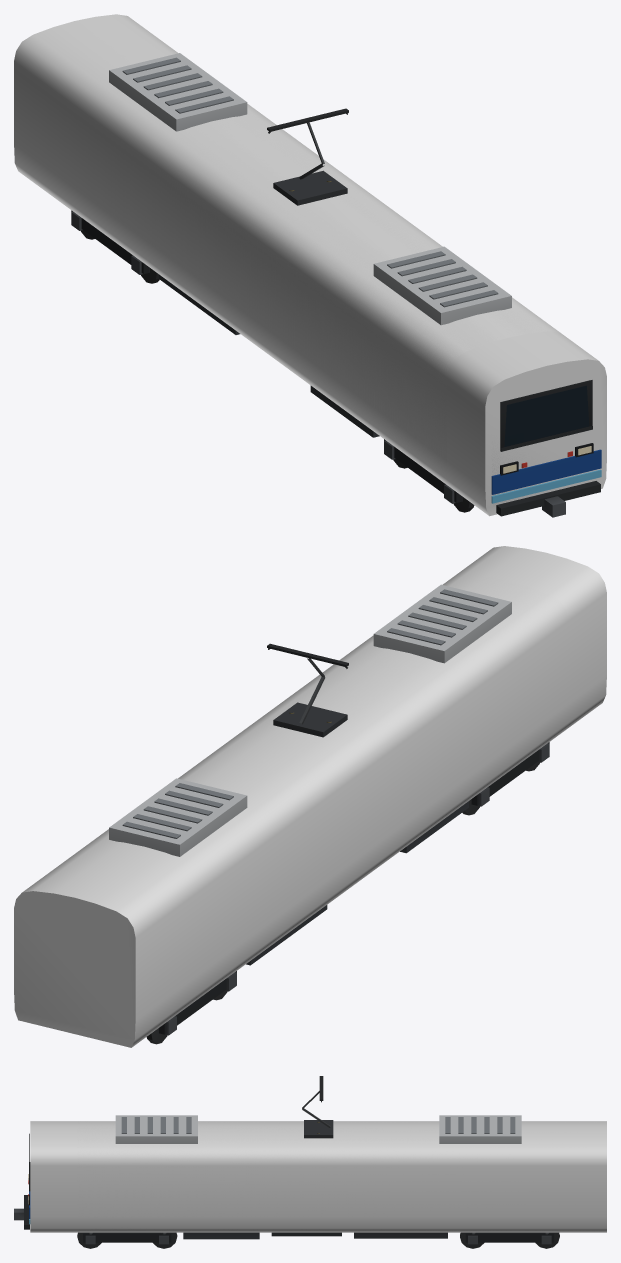
File: tren.glb
3 views of the same model, one above another, from view 1: azimuth 30°, elevation 25°; view 2: azimuth 150°, elevation 25°; view 3: azimuth 270°, elevation 25° (orthographic). The views are drawn at different scales.
Visible parts, largest first — view 1: tren_caja, tren_cabina, tren_techo, tren_frente_e, tren_bajo, pantografo; view 2: tren_caja, tren_cabina, tren_techo, tren_bajo, pantografo; view 3: tren_caja, tren_cabina, tren_techo, tren_bajo, pantografo, tren_frente_e.
Boxes of the visible parts, <box> form: tren_caja: <box>14,14,606,516</box>; tren_cabina: <box>14,14,600,509</box>; tren_techo: <box>109,53,511,325</box>; tren_frente_e: <box>491,380,601,517</box>; tren_bajo: <box>71,210,474,512</box>; pantografo: <box>267,108,348,205</box>; tren_caja: <box>14,546,606,1047</box>; tren_cabina: <box>24,576,567,1046</box>; tren_techo: <box>109,584,511,856</box>; tren_bajo: <box>146,742,549,1044</box>; pantografo: <box>267,643,348,737</box>; tren_caja: <box>30,1121,606,1232</box>; tren_cabina: <box>77,1121,606,1232</box>; tren_techo: <box>115,1115,521,1143</box>; tren_bajo: <box>77,1232,559,1248</box>; pantografo: <box>302,1076,333,1138</box>; tren_frente_e: <box>14,1133,30,1229</box>.
Size of the model in its own units: 2.92 by 5.61 by 20.15.
